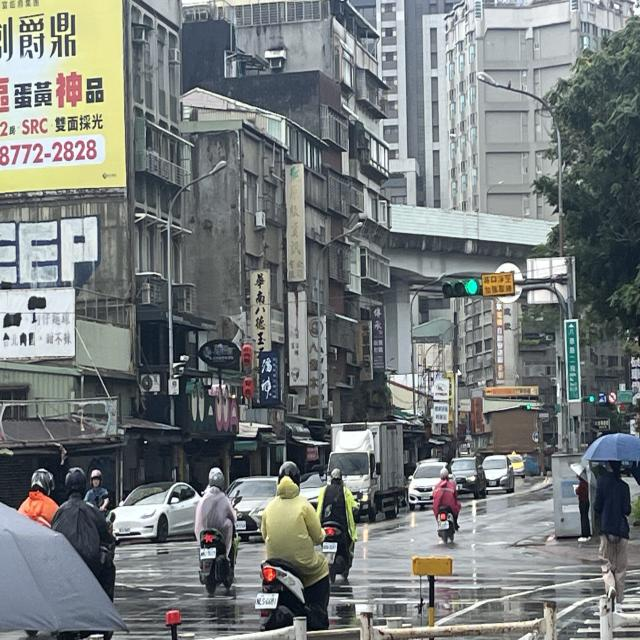green light: (440, 278, 482, 300)
